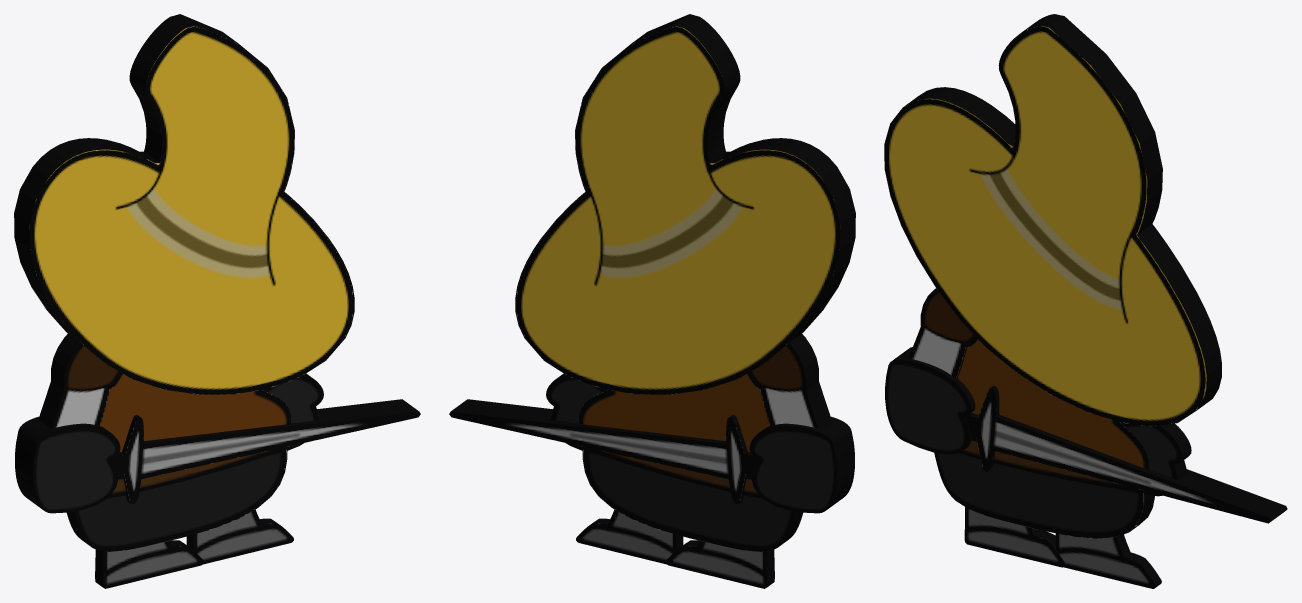
Rendered from TubaKnight.fbx.
The picture shows the model from 3 angles, left to right: view 1: azimuth 30°, elevation 25°; view 2: azimuth 150°, elevation 25°; view 3: azimuth 330°, elevation 25°; orthographic projection.
Parts seen in each view (by area): view 1: Head, LowerBody, Sword, LHand, Body, LArm, FootL, FootR, RHand, Belt; view 2: Head, LowerBody, Sword, LHand, Body, LArm, FootL, FootR, RHand, Belt; view 3: Head, LowerBody, Sword, Body, LHand, FootR, LArm, FootL, RHand, Belt.
Boxes of the visible parts, box(x1,y1,x2,y2) form: Head: box(14, 14, 354, 394); LowerBody: box(67, 449, 287, 551); Sword: box(112, 399, 420, 504); LHand: box(15, 416, 120, 513); Body: box(100, 374, 290, 452); LArm: box(38, 334, 122, 428); FootL: box(95, 540, 203, 588); FootR: box(186, 509, 293, 564); RHand: box(262, 373, 323, 450); Belt: box(107, 446, 290, 498); Head: box(515, 14, 855, 394); LowerBody: box(582, 449, 802, 551); Sword: box(449, 399, 757, 504); LHand: box(749, 416, 854, 513); Body: box(579, 374, 769, 452); LArm: box(747, 334, 831, 428); FootL: box(666, 540, 774, 588); FootR: box(576, 509, 683, 564); RHand: box(546, 373, 607, 450); Belt: box(579, 446, 762, 498); Head: box(884, 14, 1221, 426); LowerBody: box(934, 452, 1154, 538); Sword: box(964, 386, 1287, 523); Body: box(956, 339, 1148, 469); LHand: box(885, 347, 975, 454); FootR: box(1055, 533, 1161, 588); LArm: box(908, 288, 978, 378); FootL: box(964, 507, 1065, 567); RHand: box(1121, 423, 1191, 496); Belt: box(959, 436, 1145, 492).
Bounding box in the file's own units: 0.8634 × 1.15 × 0.07.
